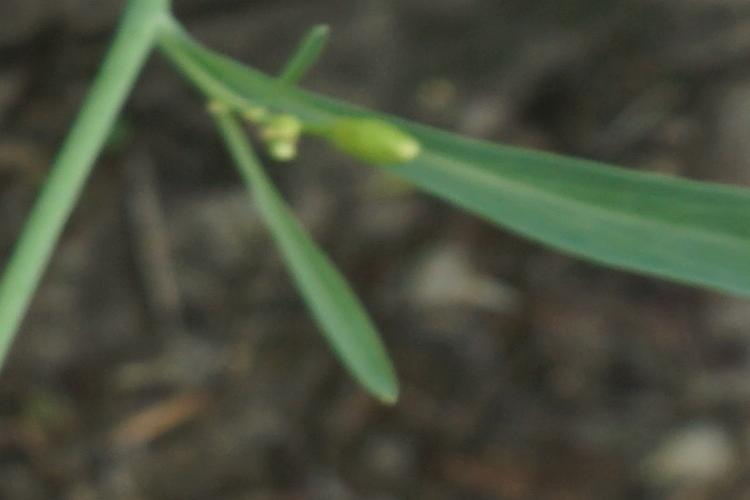bud: (326, 116, 435, 175)
